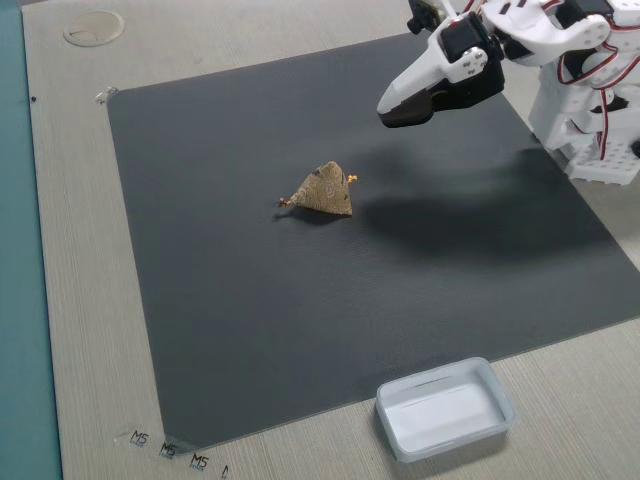gripper: (357, 0, 501, 123)
